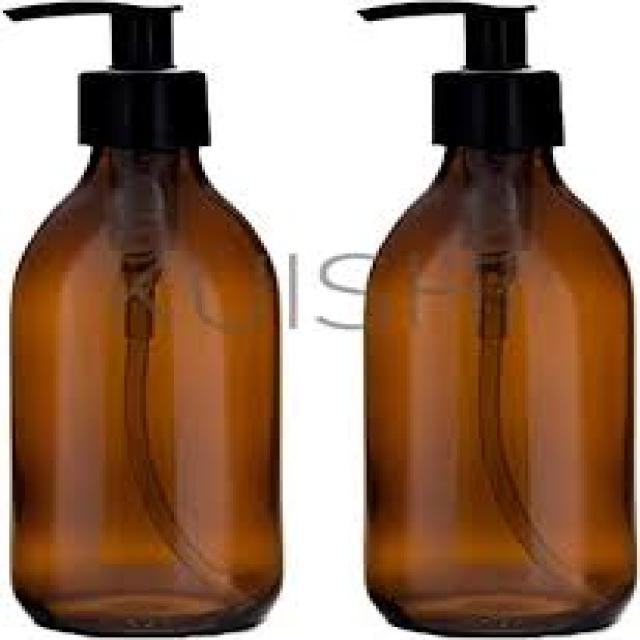glass: (360, 141, 637, 637), (6, 144, 280, 637)
plastic: (354, 0, 562, 146), (0, 0, 208, 146)
